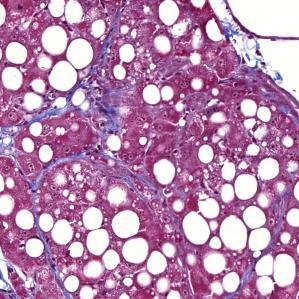fibrosis: (72, 85, 128, 138)
